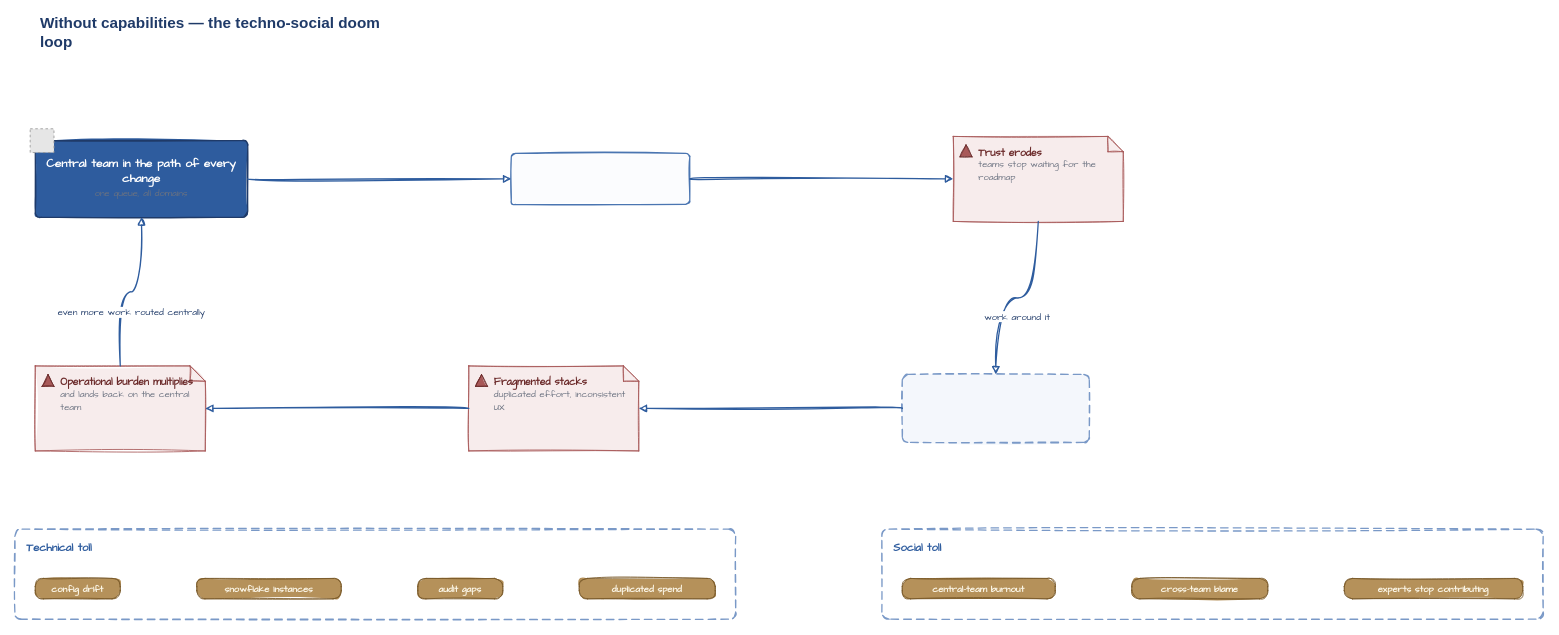
Some shapes in this 1559 by 635 pixel diagram are drawn without their labels. Grey dashed boxes stand in for pictures. Each missing label, with the centre of its shape:
Backlog grows, delivery slows: point 600,178
Teams build around the platform shadow infrastructure: point 995,408
